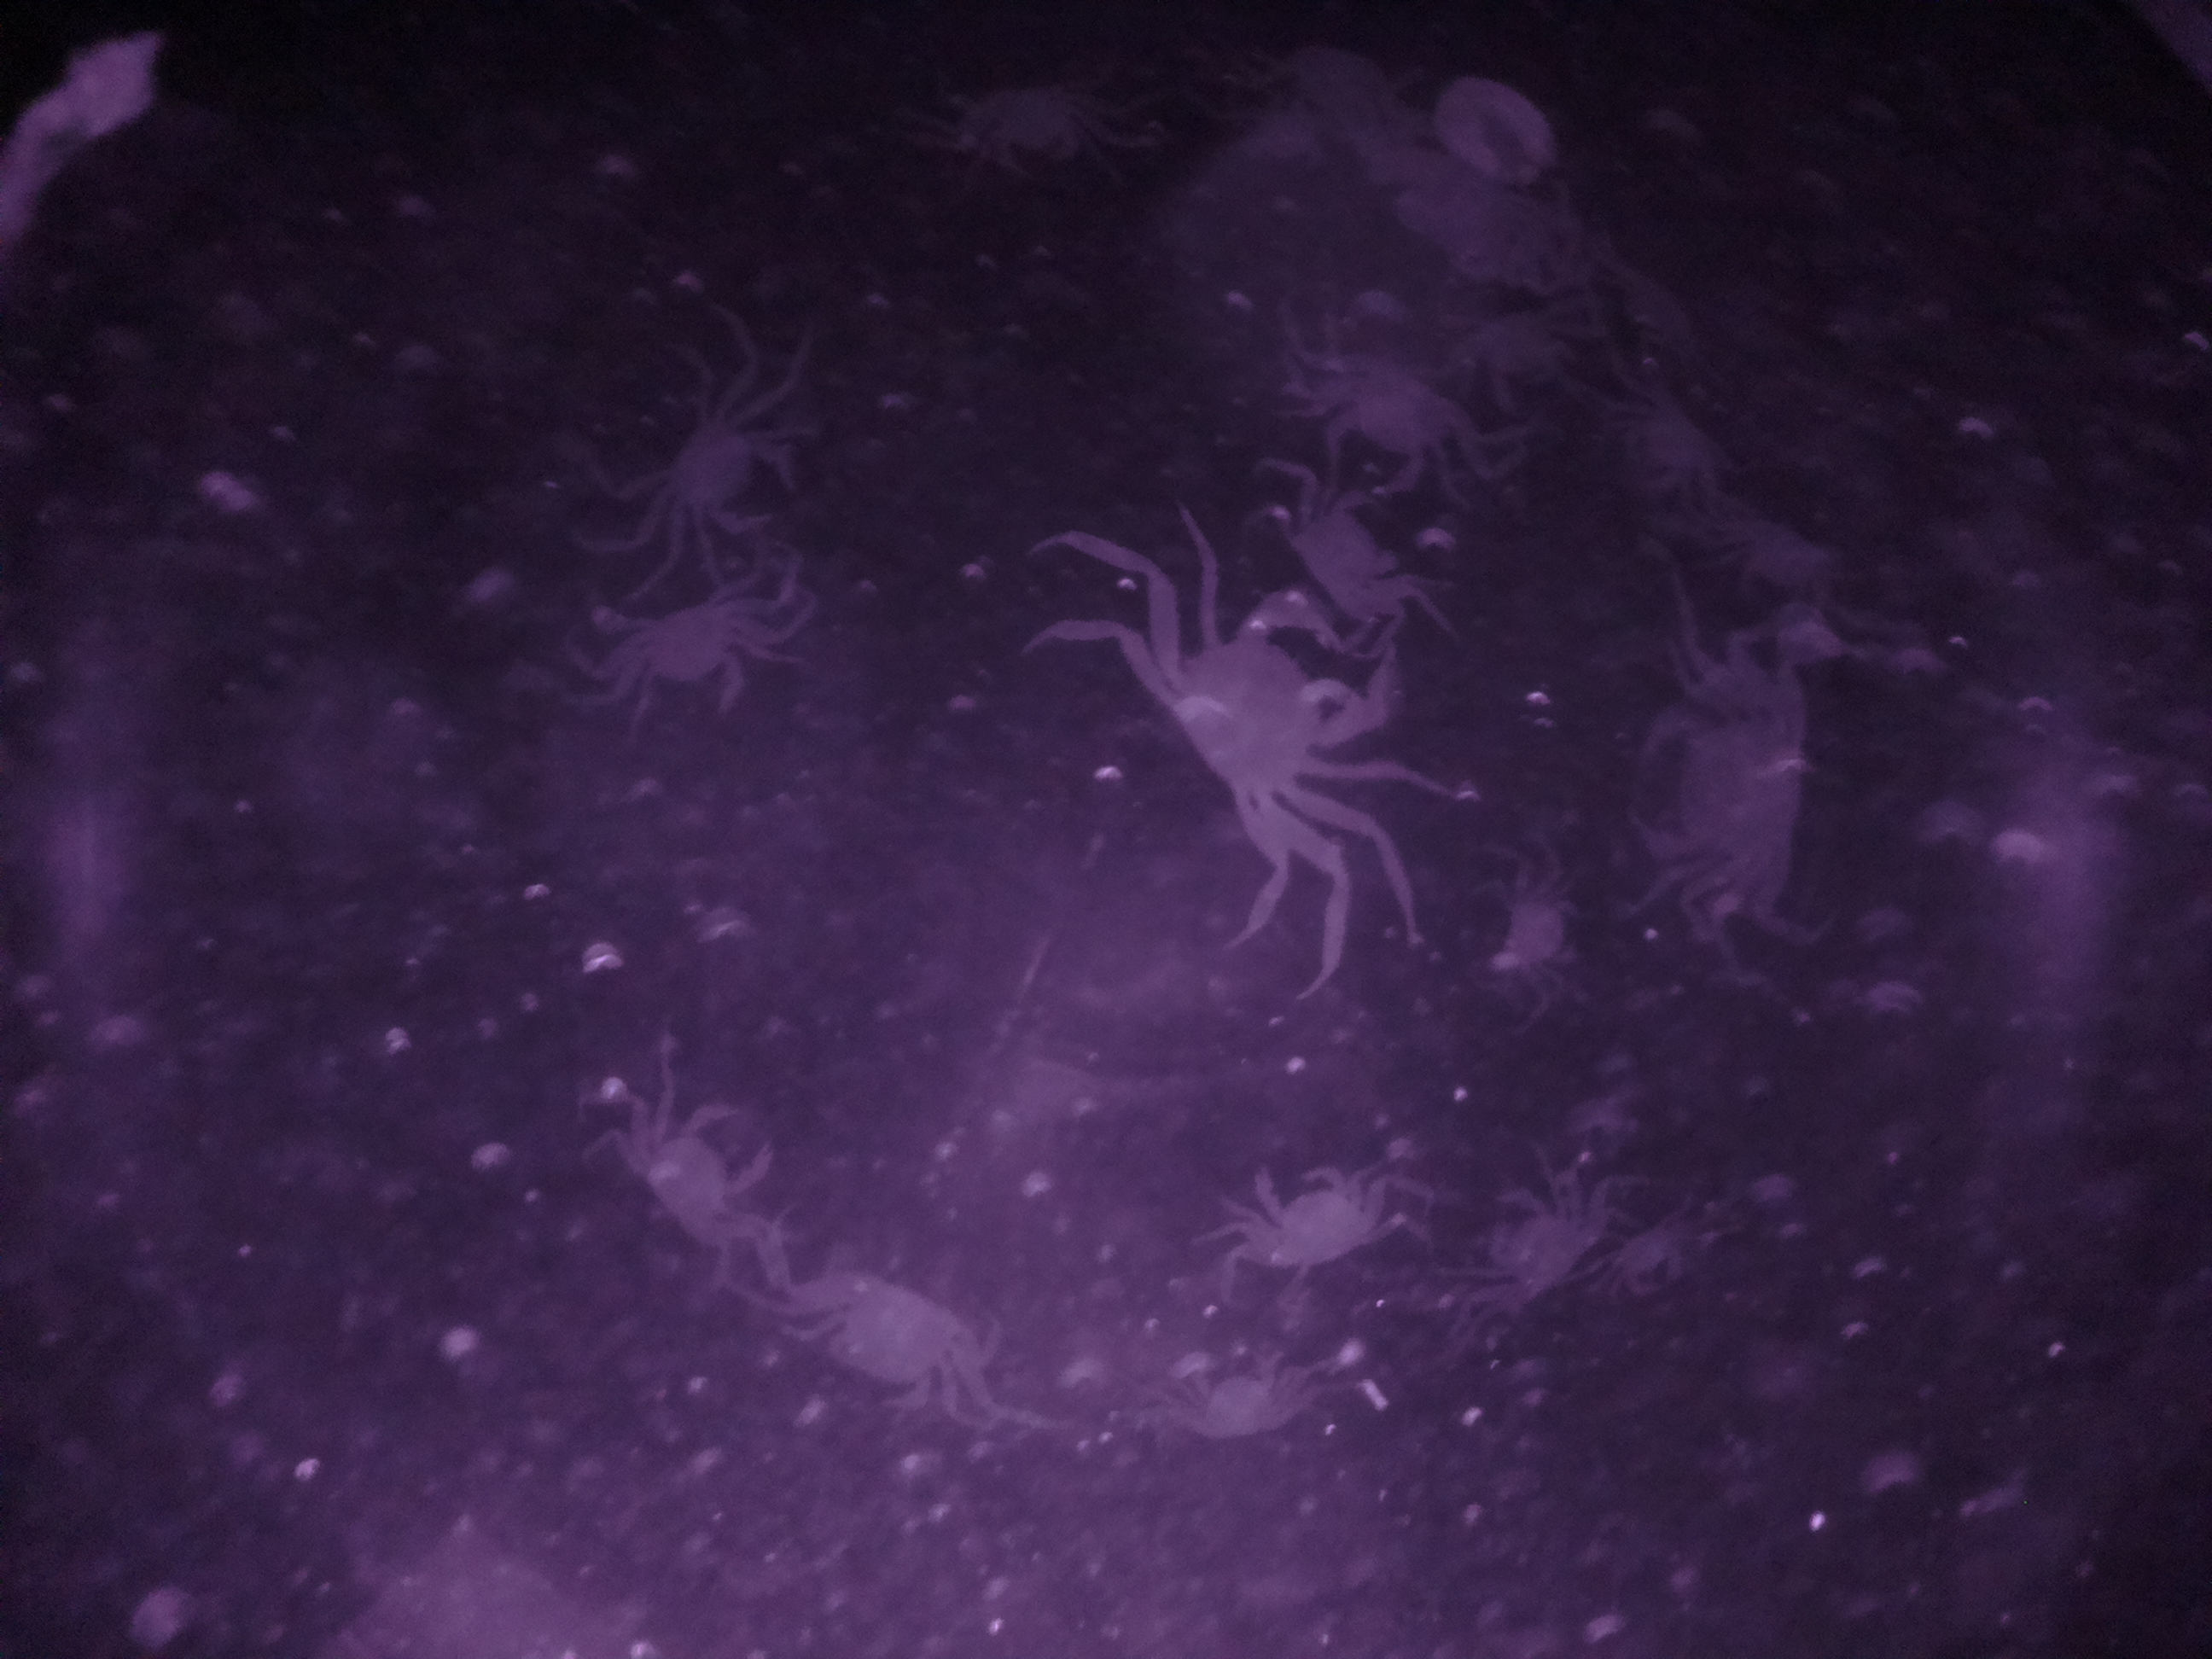Crab: (1120, 573, 1425, 863), (1597, 683, 1841, 904), (777, 1248, 988, 1431), (1291, 340, 1498, 511), (592, 577, 782, 737), (627, 385, 812, 549), (631, 1077, 787, 1263), (1200, 1143, 1397, 1284), (1150, 1331, 1322, 1452)
